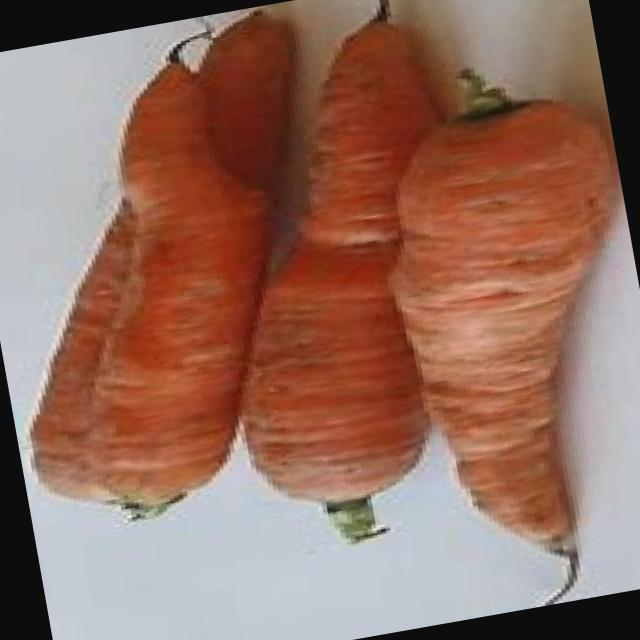carrot: (384, 98, 613, 588), (239, 26, 442, 502), (86, 54, 265, 510)
